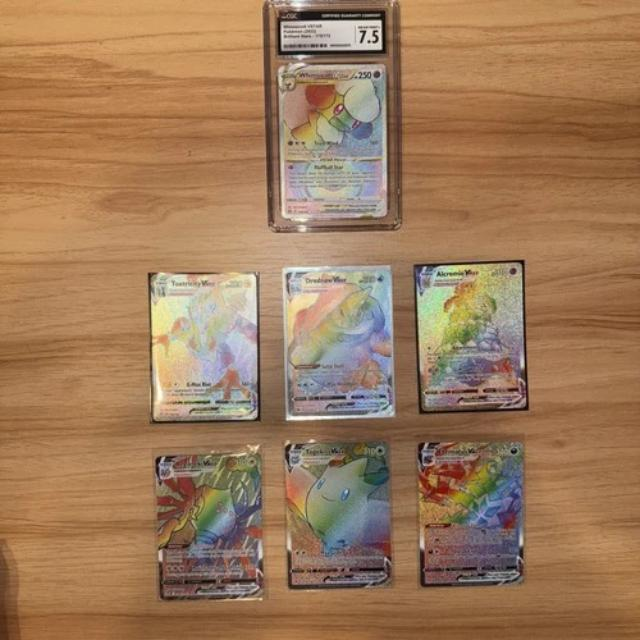Card: (273, 60, 393, 221), (412, 260, 528, 414), (148, 269, 261, 424), (282, 267, 397, 418), (283, 439, 397, 591), (153, 451, 267, 602), (416, 439, 527, 590)
Name: (297, 68, 352, 85), (432, 444, 485, 456), (300, 445, 347, 457), (170, 277, 218, 288), (303, 273, 349, 284), (433, 268, 482, 278), (173, 459, 221, 469)
